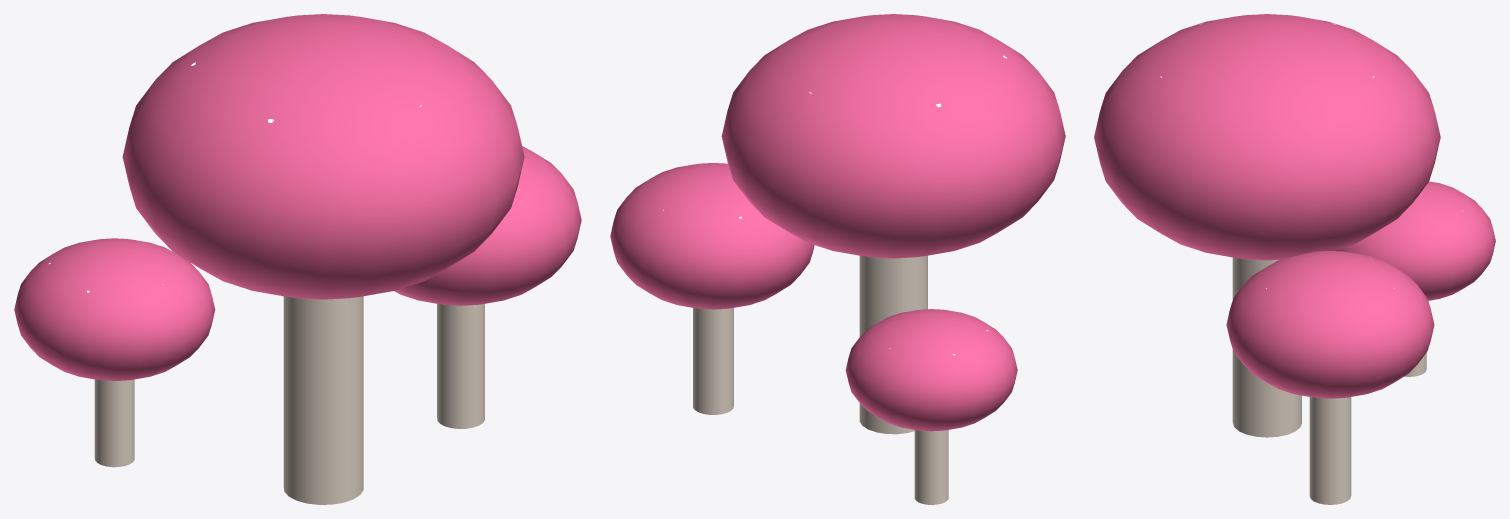
Rendered from res_spore.glb.
3 renders of one model, left to right at view 1: azimuth 30°, elevation 25°; view 2: azimuth 150°, elevation 25°; view 3: azimuth 270°, elevation 25°, orthographic. The views are drawn at different scales.
Parts seen in each view (by area): view 1: Cap0, Cap2, Stem0, Cap1, Stem1, Stem2; view 2: Cap0, Cap1, Cap2, Stem0, Stem1, Stem2; view 3: Cap0, Cap1, Cap2, Stem0, Stem1.
Boxes of the visible parts, box(x1,y1,x2,y2) form: Cap0: box(122, 14, 524, 299); Cap2: box(14, 238, 215, 381); Stem0: box(283, 296, 363, 504); Cap1: box(394, 146, 581, 305); Stem1: box(437, 304, 484, 428); Stem2: box(94, 379, 134, 467); Cap0: box(721, 14, 1065, 258); Cap1: box(610, 163, 814, 309); Cap2: box(845, 309, 1017, 431); Stem0: box(859, 255, 927, 434); Stem1: box(693, 308, 733, 414); Stem2: box(914, 430, 948, 504); Cap0: box(1094, 14, 1440, 260); Cap1: box(1226, 251, 1434, 398); Cap2: box(1335, 181, 1495, 300); Stem0: box(1232, 257, 1301, 437); Stem1: box(1309, 397, 1351, 504).
Bounding box in the file's own units: 1.55 × 1.35 × 1.27.
